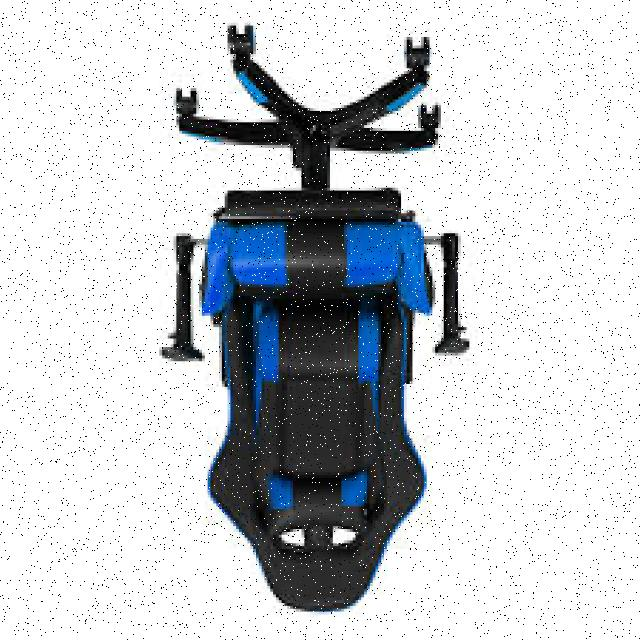bottle: (160, 24, 475, 613)
